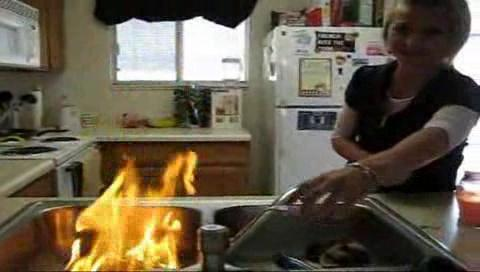fire: (77, 153, 197, 269)
